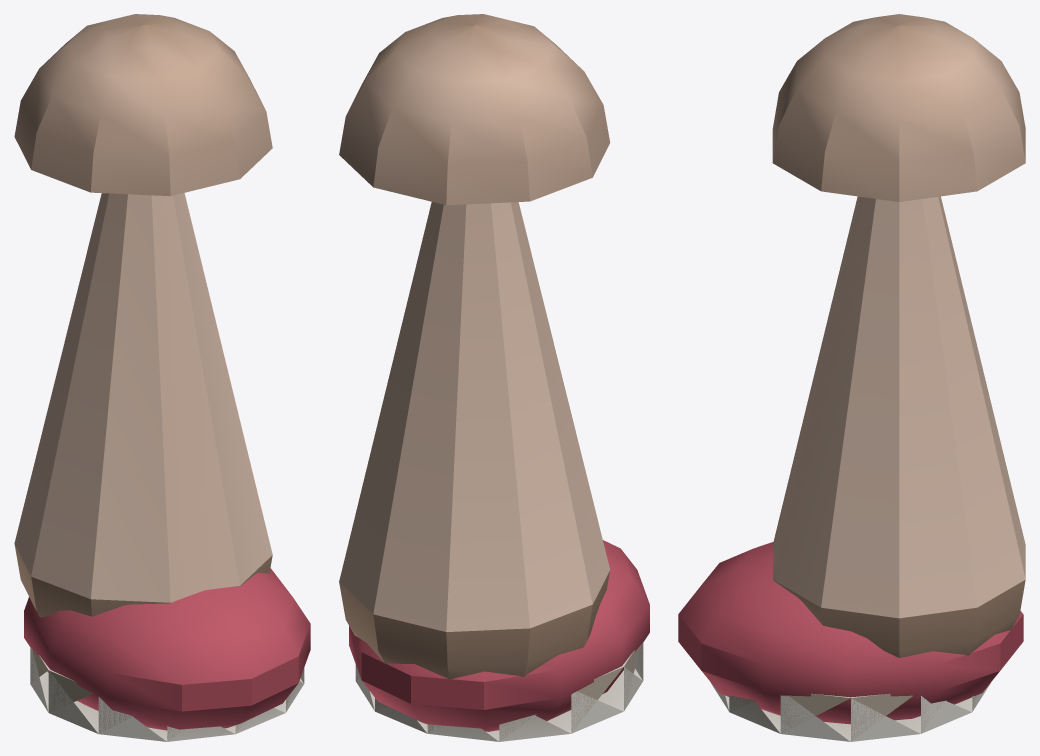
The model's file is p-girl-legL.glb.
3 renders of one model, left to right at view 1: azimuth 30°, elevation 25°; view 2: azimuth 150°, elevation 25°; view 3: azimuth 270°, elevation 25°, orthographic. The views are drawn at different scales.
Visible parts, largest first — view 1: player_p-girl-legL; view 2: player_p-girl-legL; view 3: player_p-girl-legL.
Boxes of the visible parts, bbox=[...] form: player_p-girl-legL: bbox=[14, 14, 310, 741]; player_p-girl-legL: bbox=[339, 14, 649, 741]; player_p-girl-legL: bbox=[678, 14, 1025, 741].
Size of the model in its own units: 0.116 by 0.311 by 0.1437.
